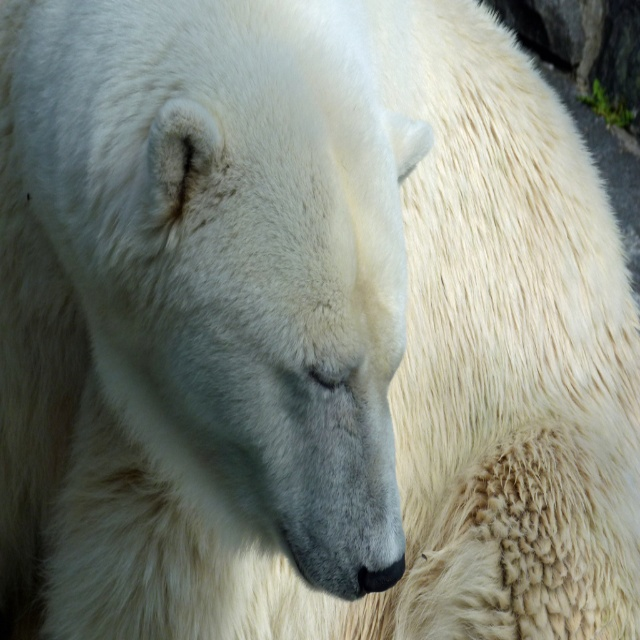Polar bear: (0, 5, 640, 639)
